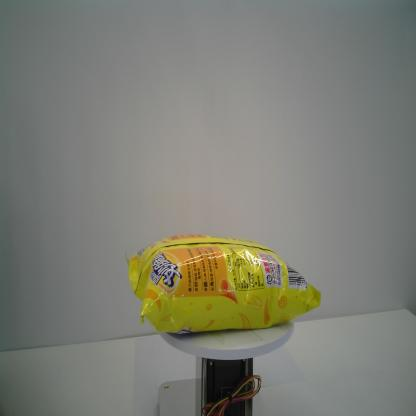Puffed Food: (124, 232, 323, 337)
